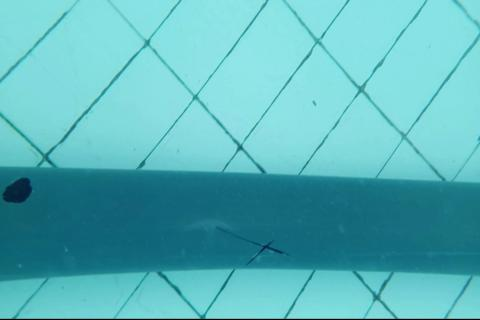kebocoran: (2, 176, 34, 206)
keretakan: (214, 224, 290, 266)
